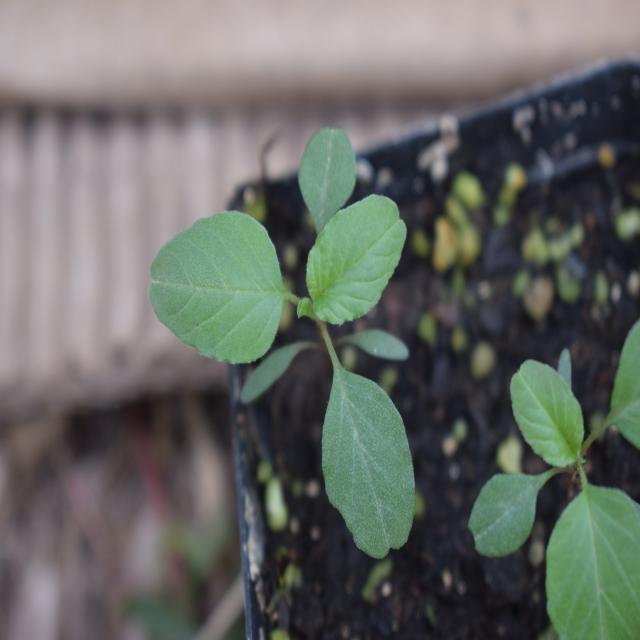pigweed: (146, 143, 433, 552)
